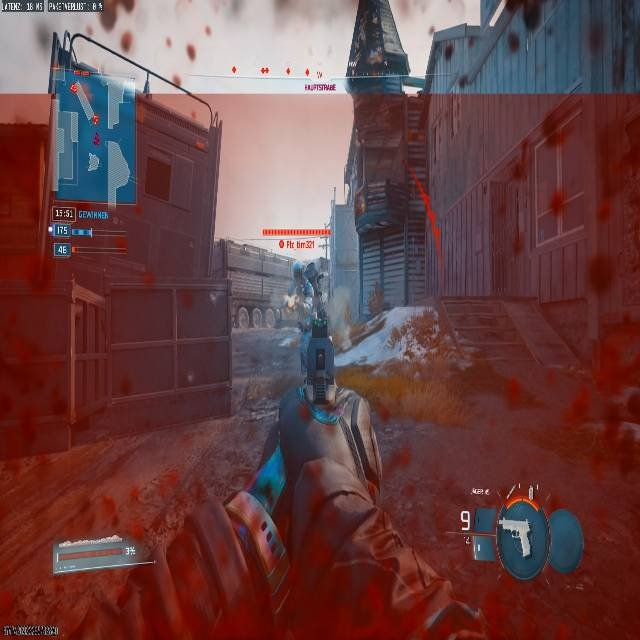player: (299, 257, 326, 317)
